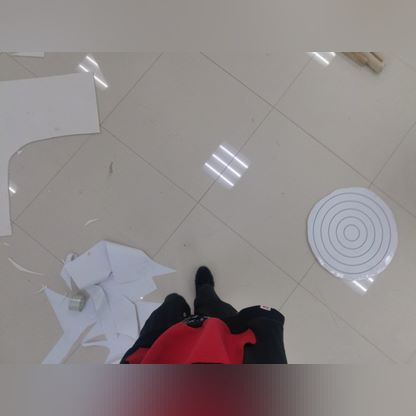circle: (309, 187, 390, 278)
